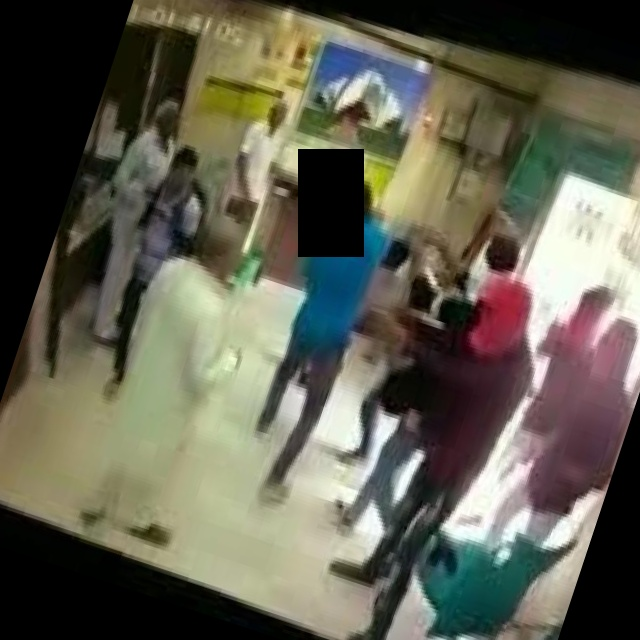gun: (354, 297, 419, 359)
